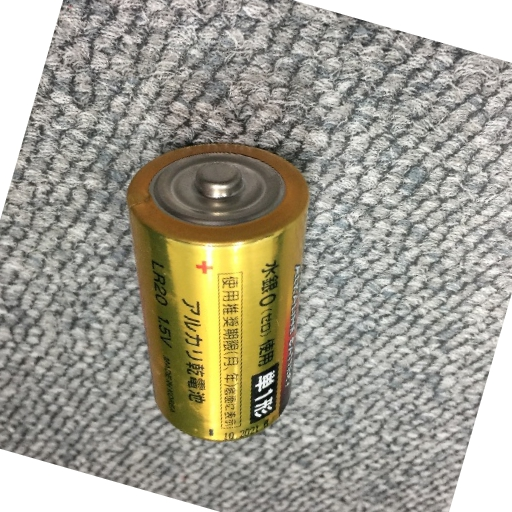Battery_0: (119, 134, 317, 447)
